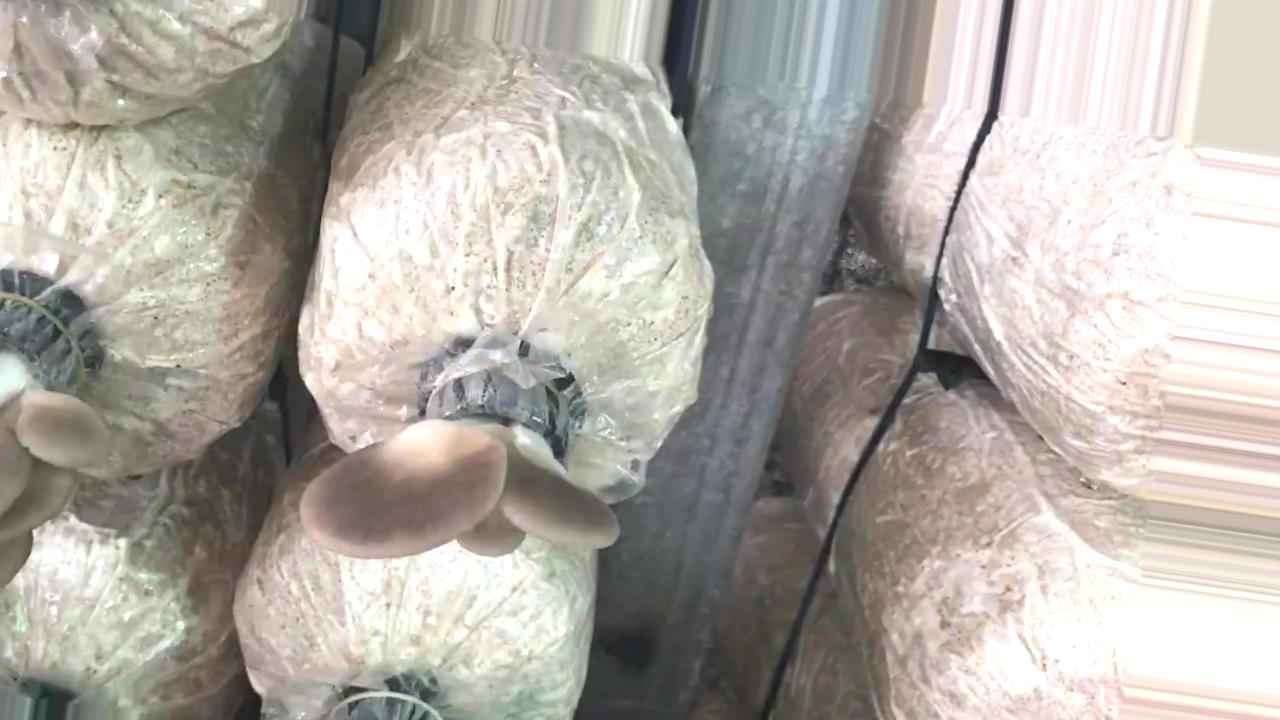nam: (298, 345, 620, 566)
